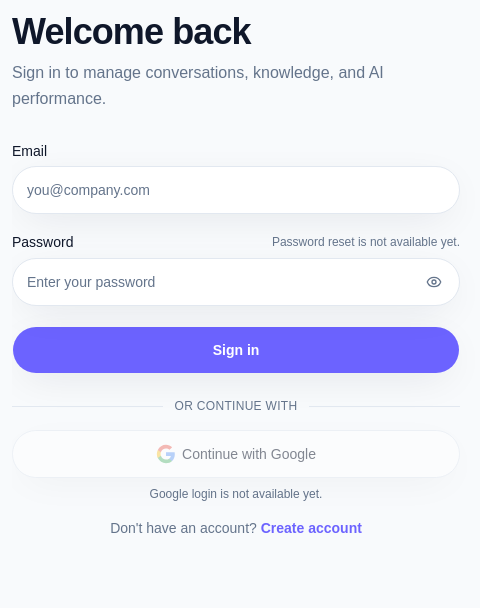
Scenario: LoginForm › shows an API error without navigating
The image size is (480, 608).
In the field labelled "Email": x=236, y=190 top-left (12, 166), bottom-right (460, 214), type "ava@acme.example"
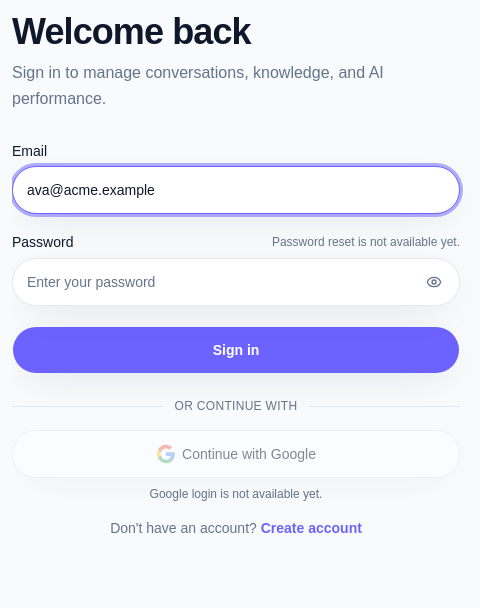
In the password field labelled "Password": x=236, y=282 top-left (12, 258), bottom-right (460, 306), type "password123"
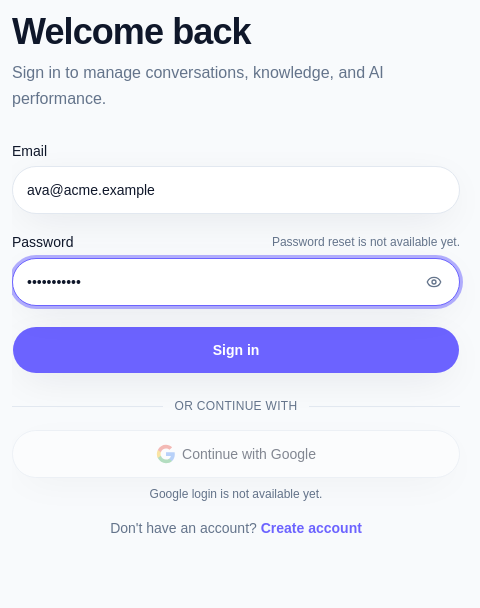
Click the button "Sign in": x=236, y=350 top-left (12, 326), bottom-right (460, 374)
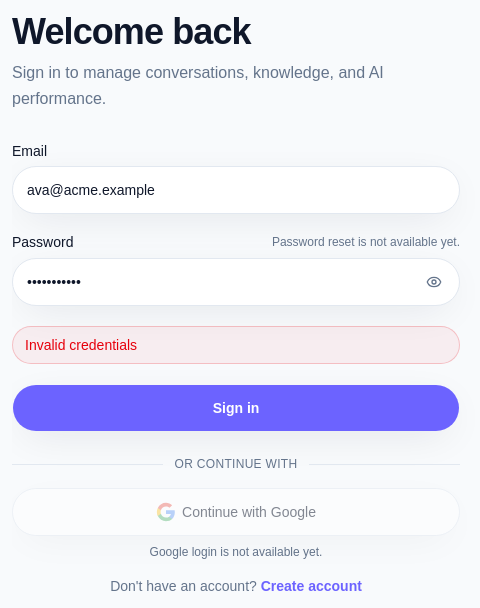
Expected: the heading "Welcome back" is shown, top-left (12, 11), bottom-right (251, 52)
Result: the message reads "Invalid credentials" at top-left (25, 337), bottom-right (137, 353)
